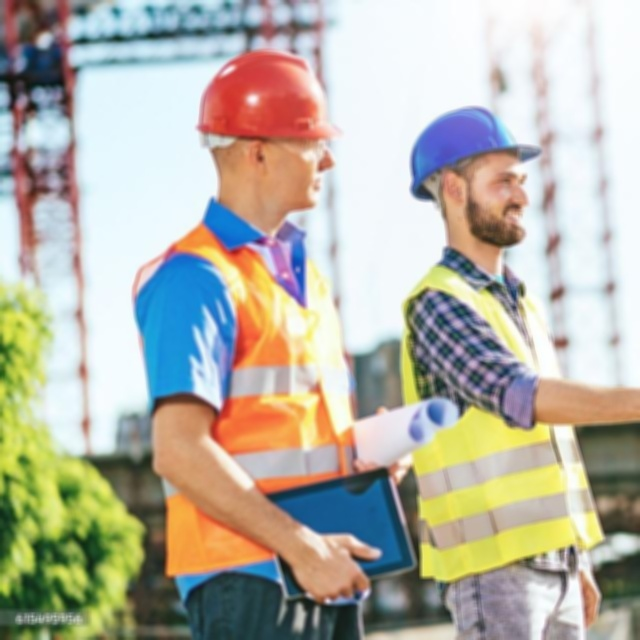Con_Casco: (195, 50, 345, 217), (412, 107, 541, 245)
Con_Chaleco: (137, 239, 355, 566), (401, 262, 589, 554)
